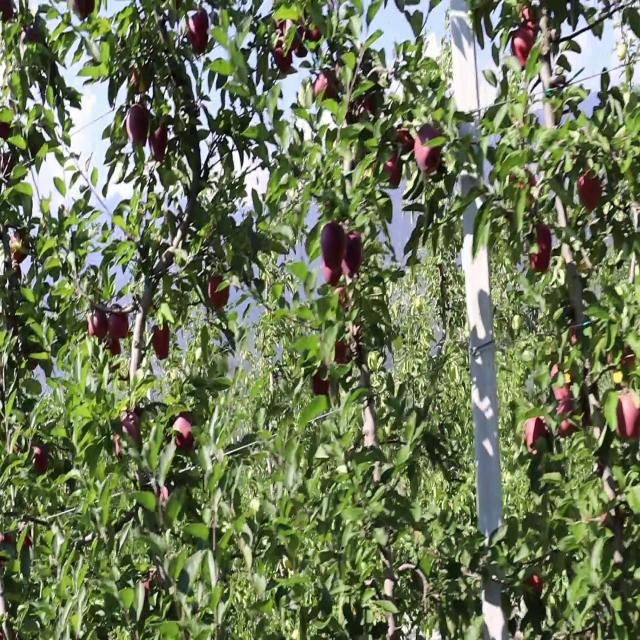apple: (416, 127, 443, 178), (528, 227, 553, 276), (576, 170, 604, 213), (616, 391, 640, 441), (512, 21, 537, 68), (320, 220, 344, 267), (128, 106, 152, 149), (188, 14, 211, 57), (172, 412, 196, 453), (552, 369, 575, 411), (336, 327, 360, 366), (148, 120, 169, 164), (344, 234, 364, 279), (532, 234, 553, 276), (208, 277, 232, 313), (552, 362, 572, 405), (608, 348, 636, 375), (528, 419, 549, 453), (272, 42, 293, 76), (384, 156, 404, 190), (533, 227, 553, 261), (316, 71, 338, 101), (520, 170, 539, 204), (132, 63, 151, 96), (320, 263, 343, 290), (88, 312, 108, 343), (312, 369, 332, 398), (532, 248, 552, 276), (396, 127, 415, 156), (152, 327, 172, 354), (112, 312, 130, 341), (518, 7, 537, 34), (72, 0, 96, 21), (336, 334, 351, 366), (156, 334, 171, 363), (36, 447, 50, 476), (156, 483, 171, 510), (620, 348, 636, 373), (524, 575, 544, 594), (560, 412, 574, 439), (296, 28, 308, 59), (360, 99, 378, 119), (0, 0, 15, 23), (336, 291, 351, 313), (308, 21, 321, 46), (0, 120, 11, 142), (24, 28, 39, 44), (108, 341, 123, 356), (156, 348, 170, 363), (572, 327, 580, 348), (24, 533, 33, 551), (116, 433, 122, 460)
